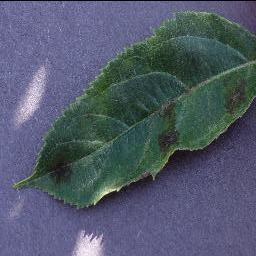apple healthy: (11, 9, 255, 209)
